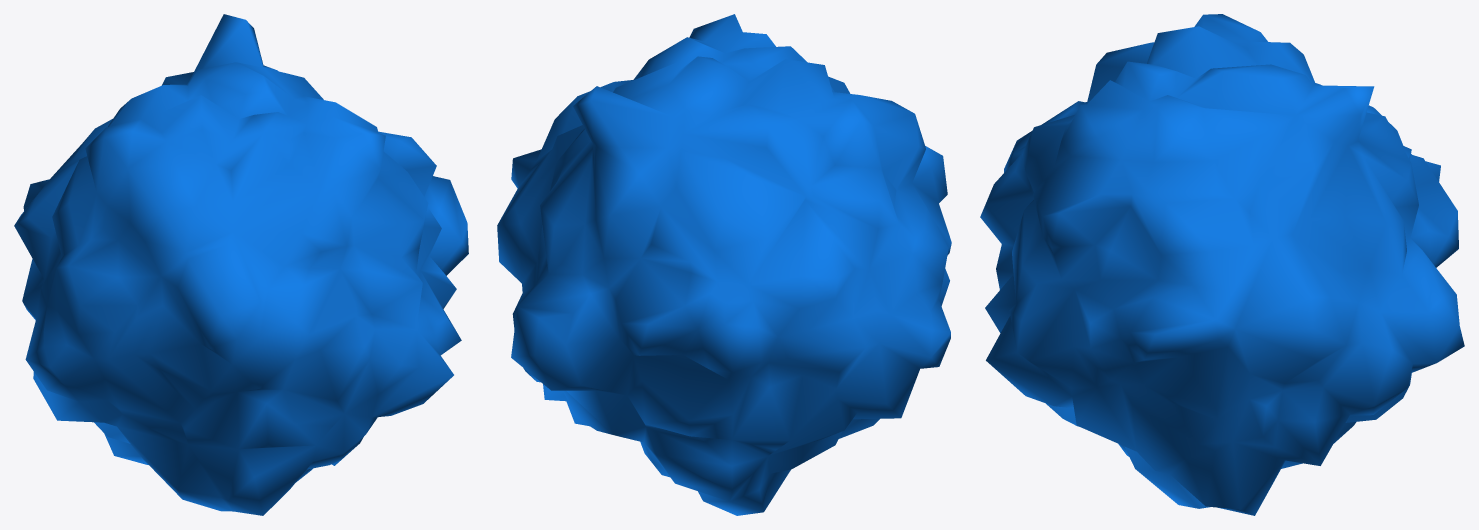
File: hvs_sparkstone_sparkstone01.fbx
3 renders of one model, left to right at view 1: azimuth 30°, elevation 25°; view 2: azimuth 150°, elevation 25°; view 3: azimuth 270°, elevation 25°, orthographic. The views are drawn at different scales.
Parts seen in each view (by area): view 1: Icosphere.014; view 2: Icosphere.014; view 3: Icosphere.014.
Part boxes in pixels (bbox=[...]): Icosphere.014: bbox=[14, 14, 468, 515]; Icosphere.014: bbox=[497, 14, 951, 515]; Icosphere.014: bbox=[980, 14, 1464, 515].
Bounding box in the file's own units: 3.25 × 3.04 × 3.12.
